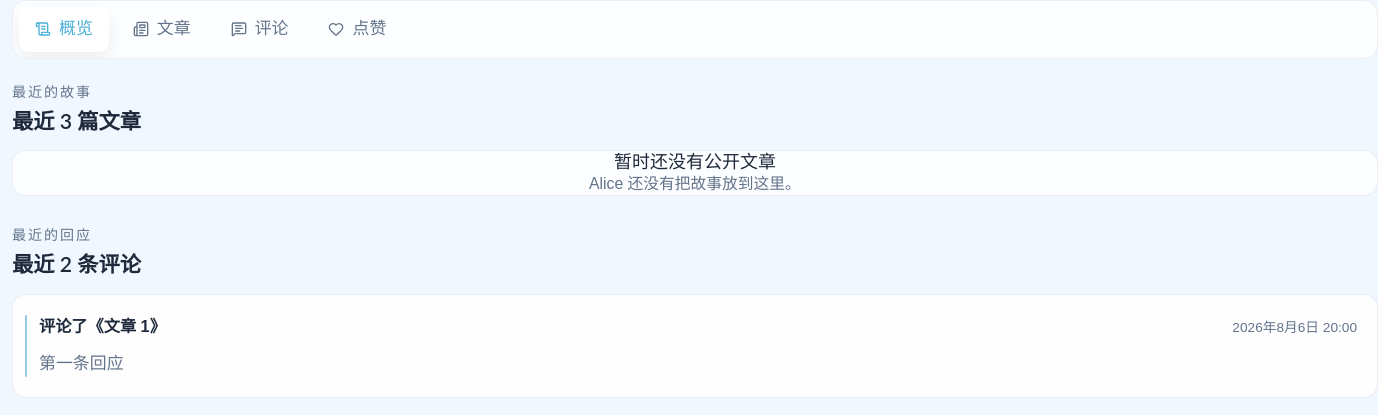
Test: UserTabs comment activity › keeps existing comments after a load-more failure and retries the same page
Click the tab "评论". click: (260, 29)
box: [215,7,304,52]
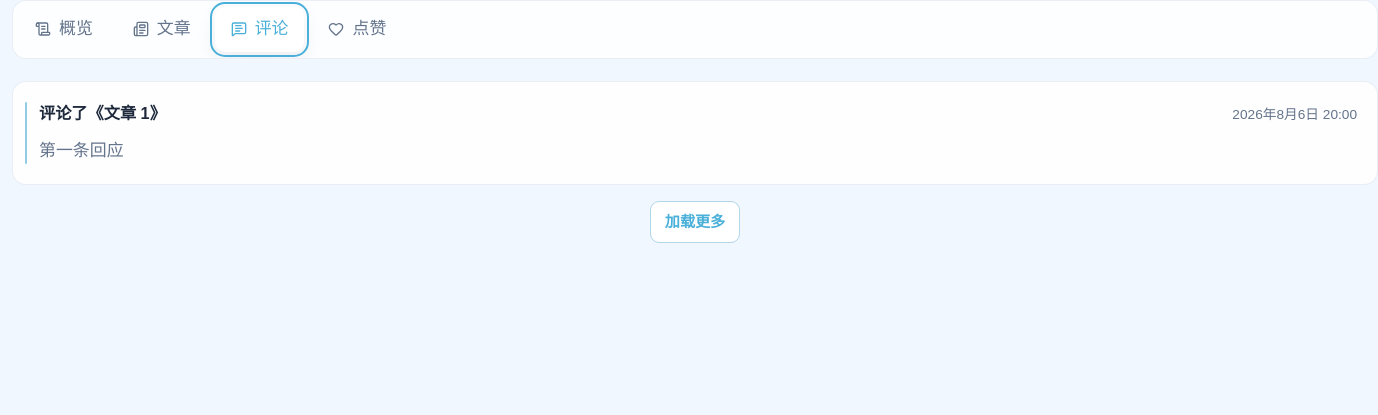
Click the button "加载更多". click: (695, 222)
box: [650,201,740,243]
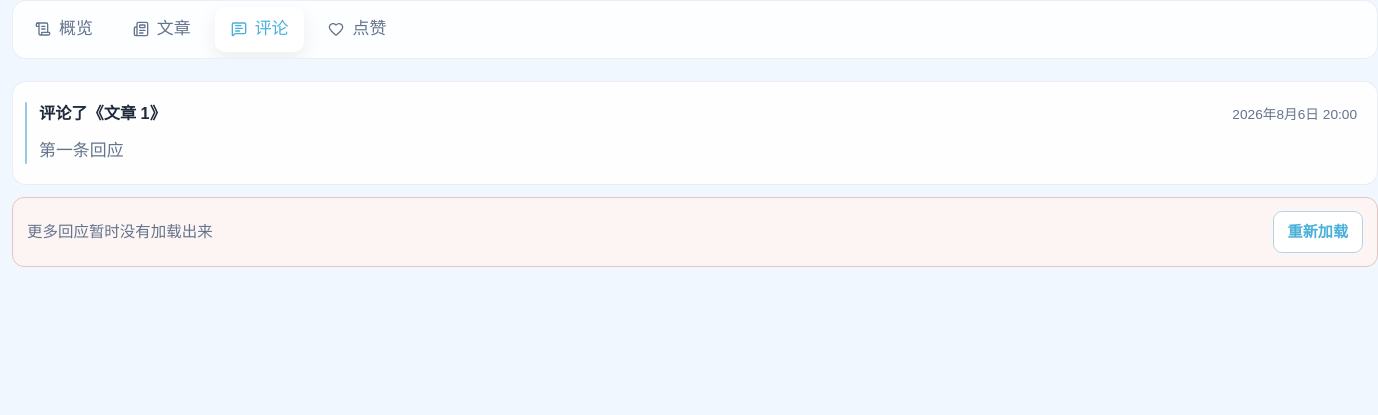
Check: the text "第一条回应" is shown, box [39,141,124,160]
Check: the text "更多回应暂时没有加载出来" is shown, box [27,219,213,245]
Click the button "重新加载". click: (1318, 232)
box: [1273,211,1363,253]
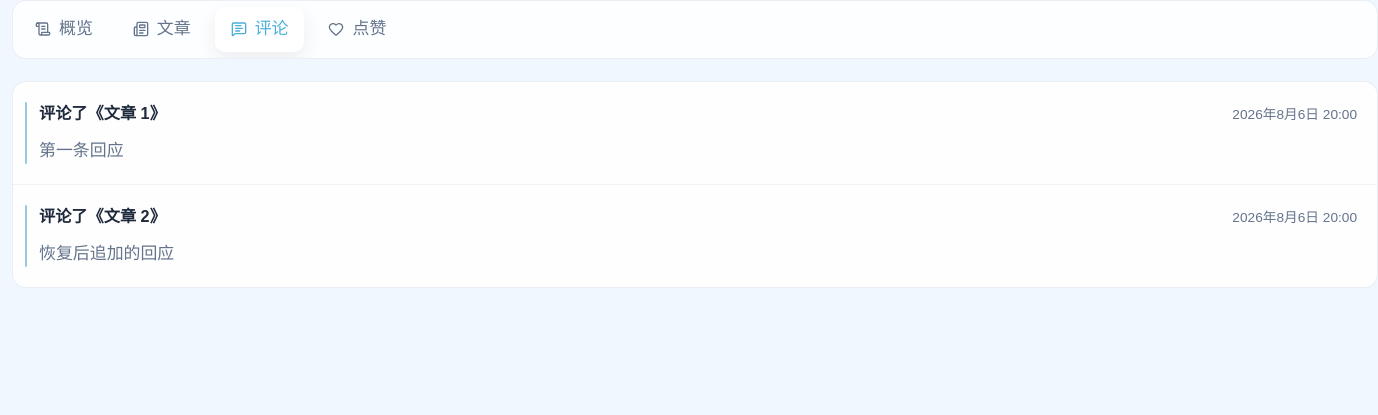
Check: the text "恢复后追加的回应" is shown, box [39,244,174,263]
Check: the text "更多回应暂时没有加载出来" is gone
